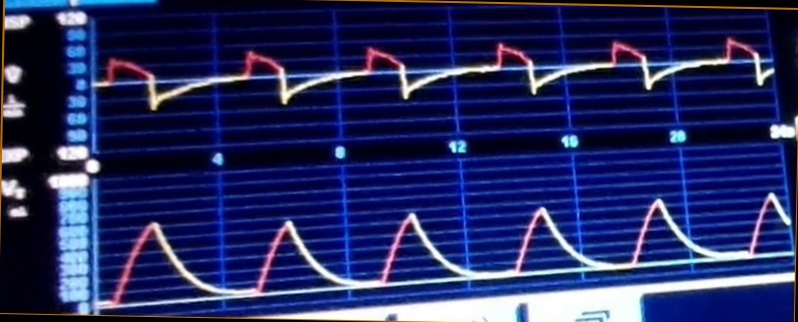Normal Flow: (96, 30, 773, 114)
Normal Volume: (100, 189, 791, 298)
